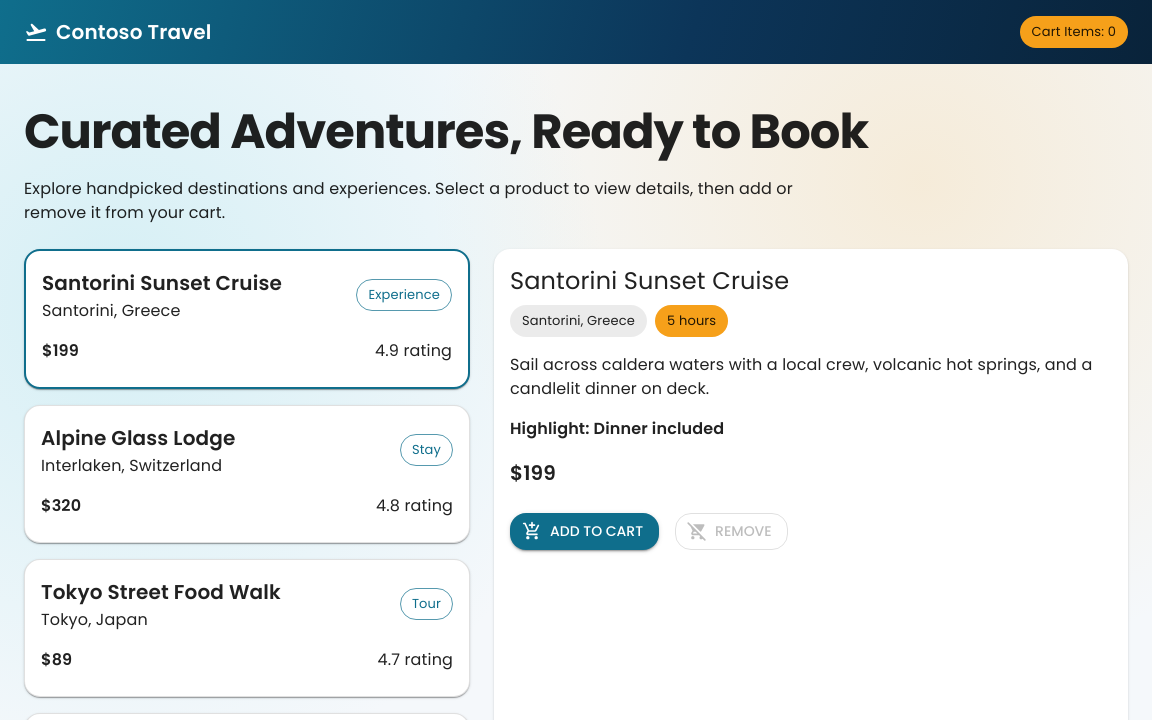
Test: Contoso Travel app › shows selected product details when a different product is clicked
This screenshot has width=1152, height=720.
Expected: the 2nd heading "Santorini Sunset Cruise" is shown, x1=510 y1=264 x2=789 y2=297
Click the heading "Tokyo Street Food Walk": (161, 592) x1=41 y1=576 x2=281 y2=608
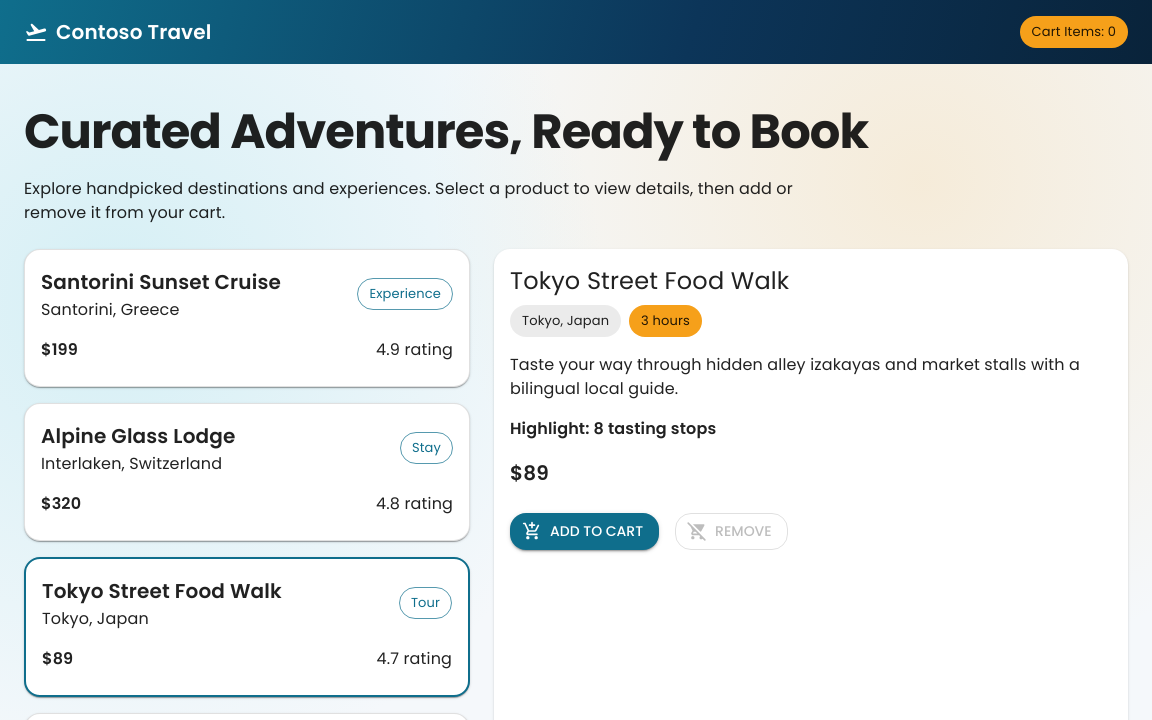
Now the 1st heading "Tokyo Street Food Walk" is shown, box x1=510 y1=264 x2=789 y2=297
Now the text "Taste your way through hidden alley izakayas" is shown, box x1=510 y1=353 x2=1080 y2=400
